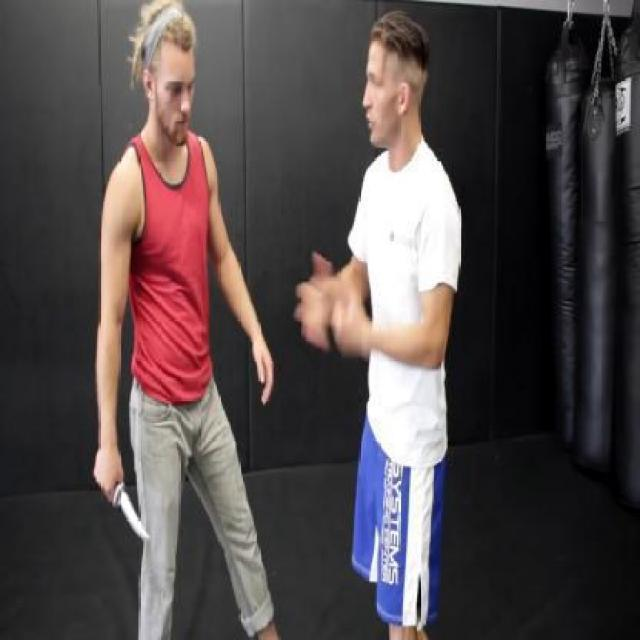-: (91, 461, 157, 554)
